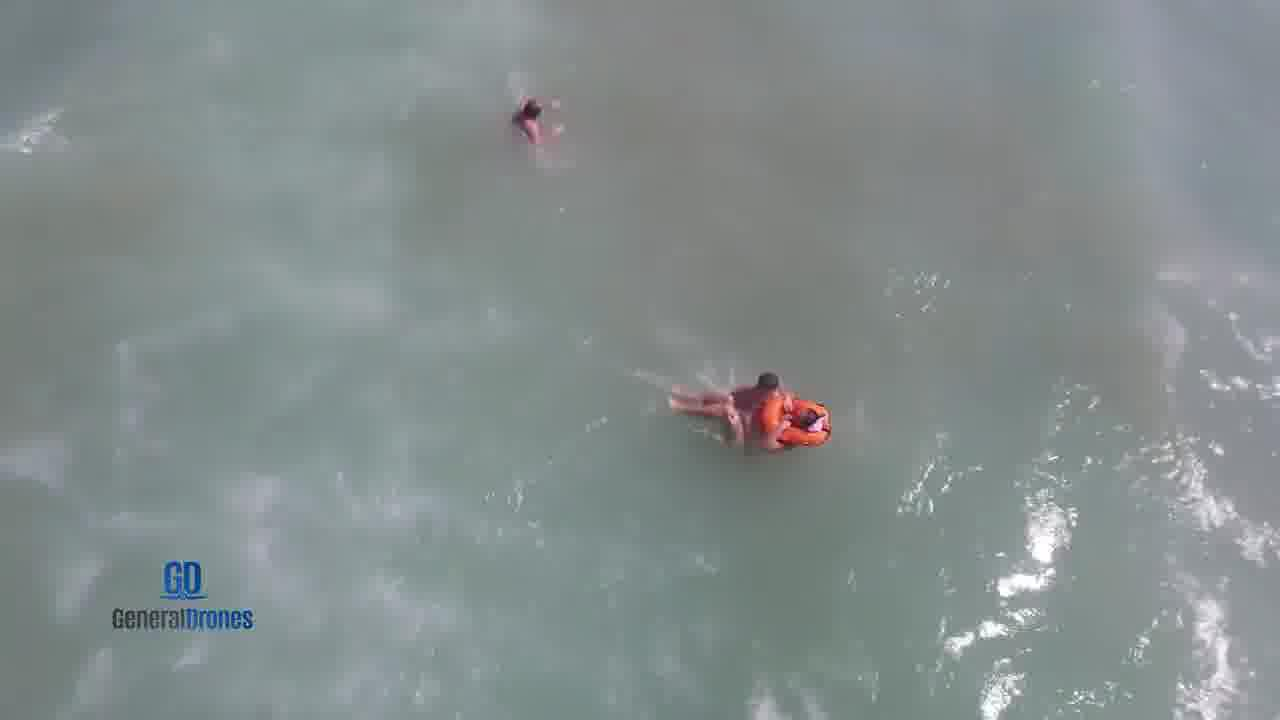swimmer: (659, 378, 835, 451), (498, 86, 569, 149), (725, 362, 803, 405)
